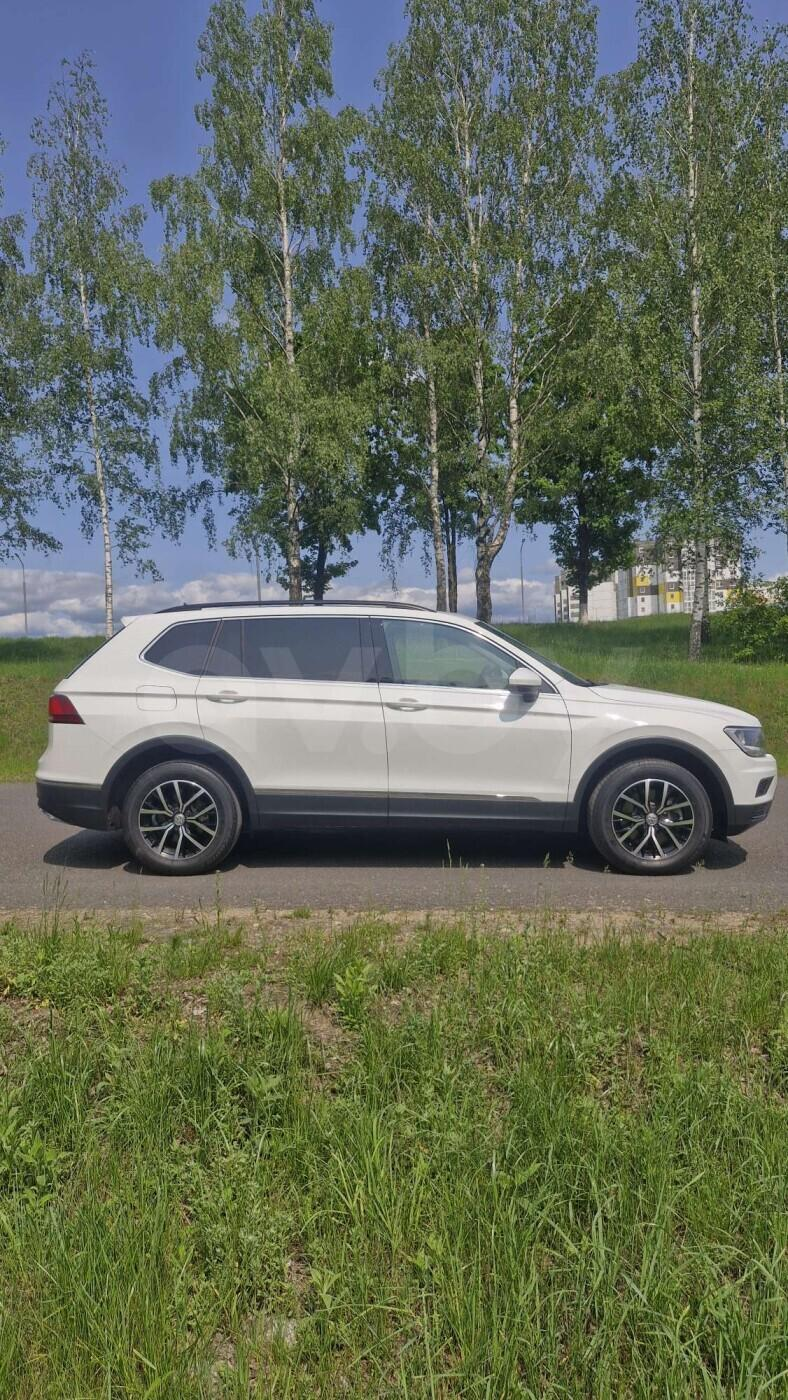Tiguan_2016-2021: (36, 596, 778, 894)
